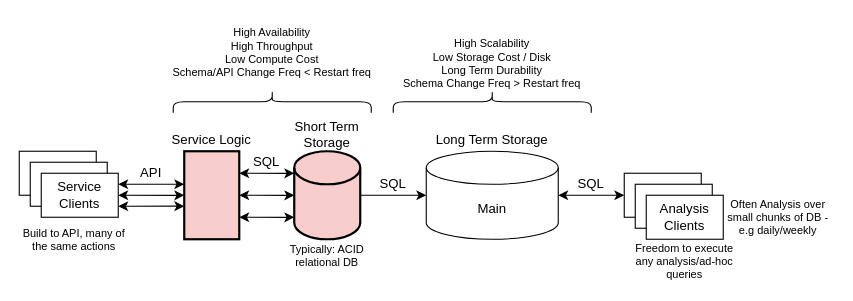
The diagram is 853 pixels wide and 301 high, and some of its shapes have lost their labels. Here are the shapes that lost their labels. From the top down, the centre of each, then its label:
At (211,195): "Service".
At (327,195): "Delta".
